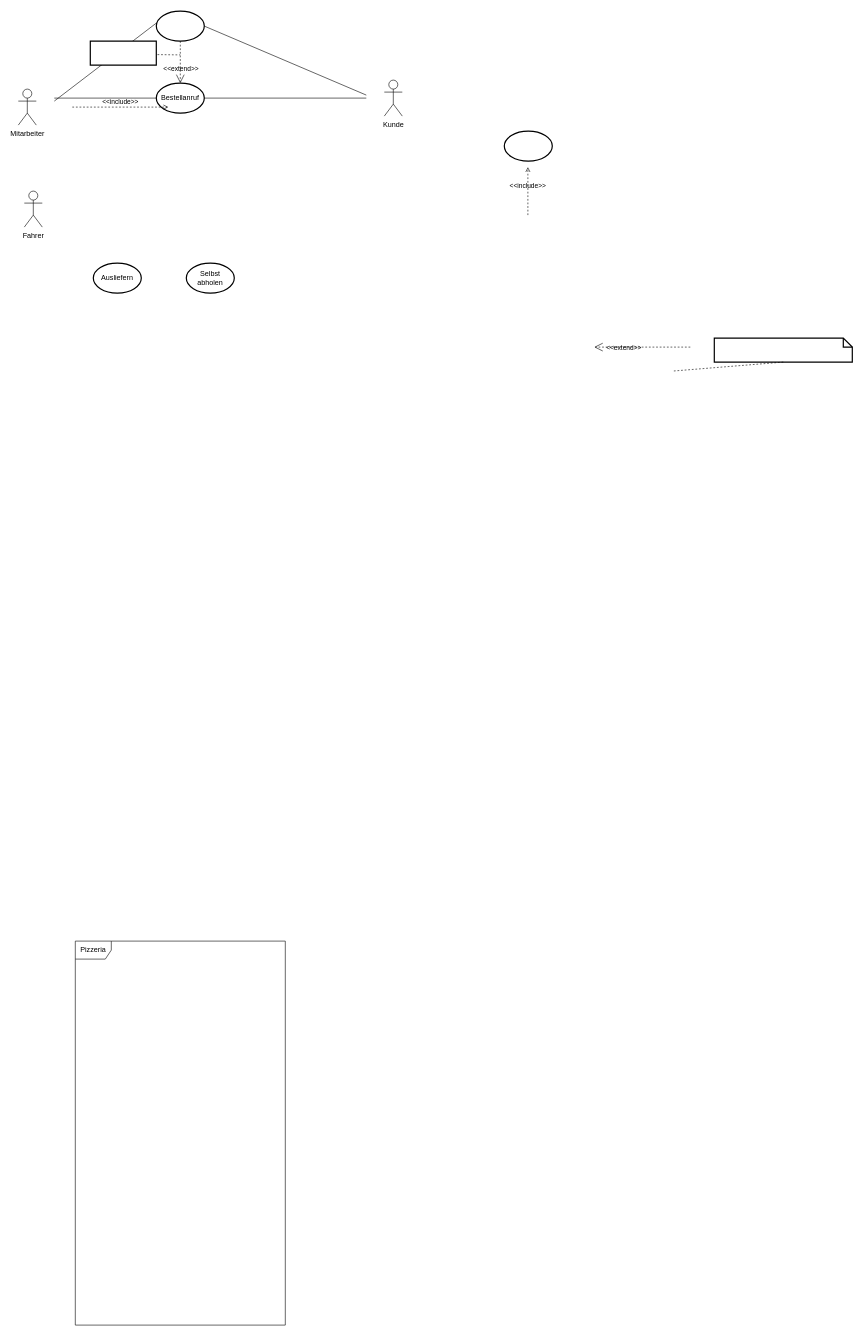
The diagram is 863 pixels wide and 1336 high, and some of its shapes have lost their labels. The centre of each missing label's shape, as x and y in pixels:
Bestellung aufnehmen: the point at 528,145
Falls Kunde neu: the point at 123,52
Kundendaten erfassen: the point at 180,25
Lieferung gewünscht: the point at 783,349
